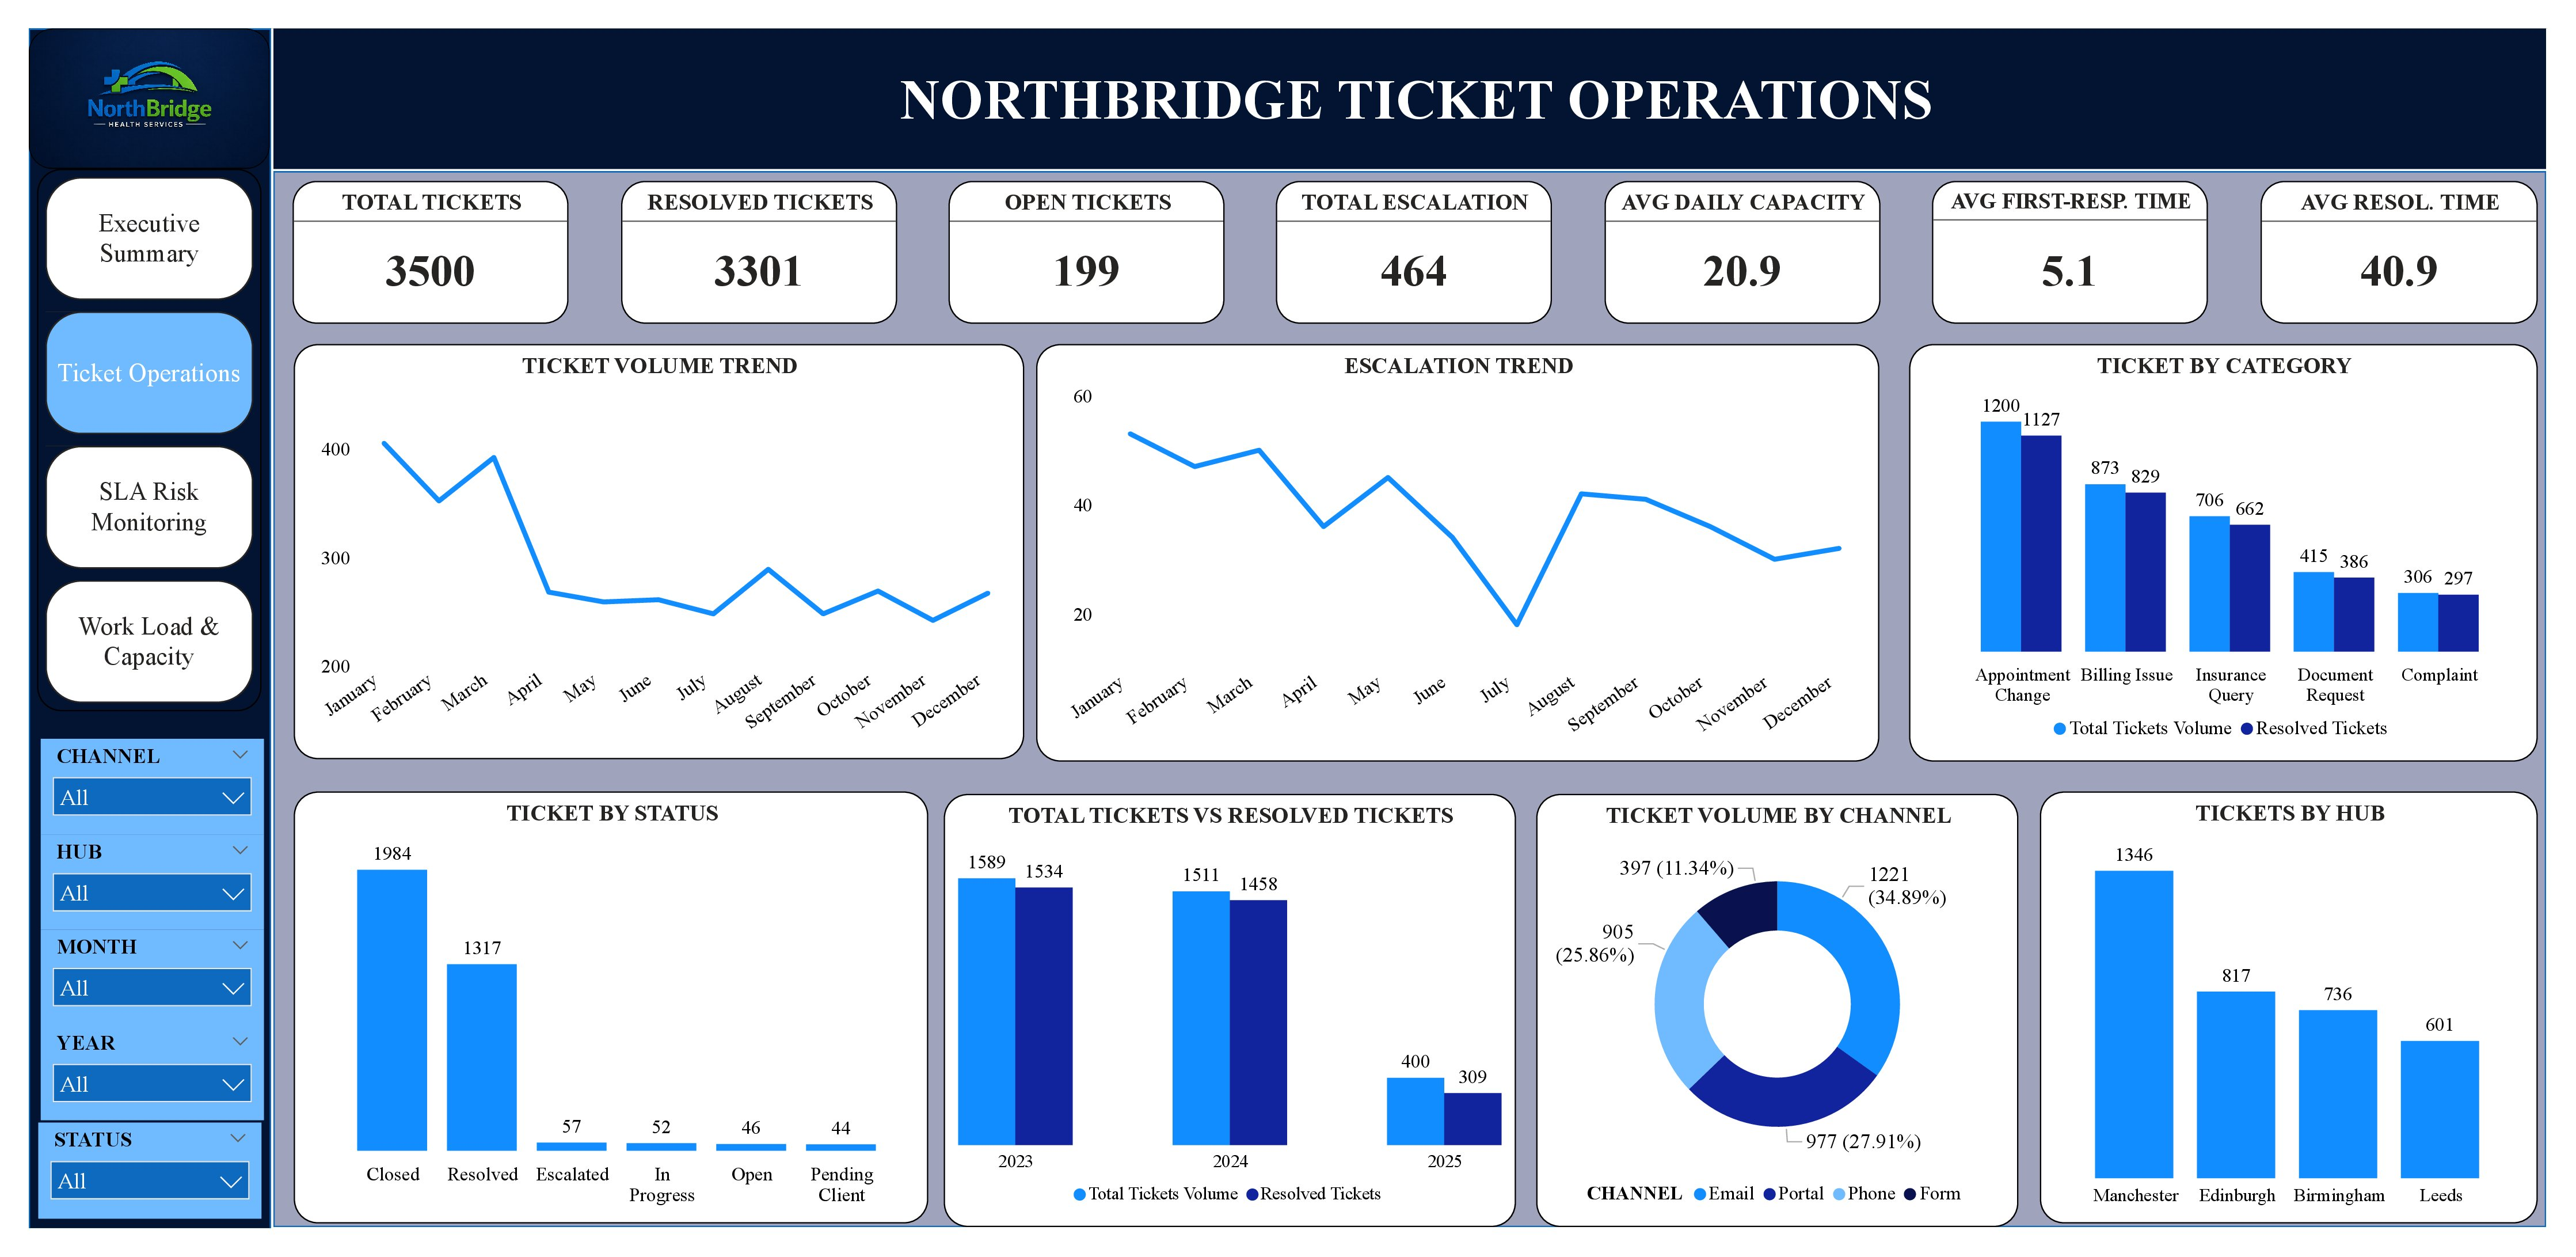

What the dashboard file says about the page in this screenshot:
{"tool":"powerbi","page":{"name":"Ticket Operations","canvas":[2100,1000],"ordinal":1},"visuals":[{"type":"shape","box":[203.7,119.2,1895.5,879.4],"z":0},{"type":"shape","box":[0,0,202.4,1000.8],"z":1000},{"type":"shape","title":"N","box":[203.7,0,1895.5,116.8],"z":2000},{"type":"cardVisual","title":"TOTAL TICKETS","fields":{"Data":["FCT_TICKETS.Total Tickets (Ticket Volume)"]},"box":[220.3,127,230,119.1],"z":3000},{"type":"cardVisual","title":"RESOLVED TICKETS","fields":{"Data":["FCT_TICKETS.Resolved Tickets"]},"box":[493.7,126.7,230,119.2],"z":4000},{"type":"cardVisual","title":"OPEN TICKETS","fields":{"Data":["FCT_TICKETS.Open Tickets (Backlog Volume)"]},"box":[767.1,126.7,230,119.2],"z":5000},{"type":"cardVisual","title":"TOTAL ESCALATION","fields":{"Data":["FCT_ESCALATIONS.Total Escalations"]},"box":[1040.5,126.7,230,119.2],"z":6000},{"type":"cardVisual","title":"AVG FIRST-RESP. TIME","fields":{"Data":["FCT_TICKETS.Average First Response Time(hrs)"]},"box":[1587.3,126.7,230,119.2],"z":7000},{"type":"cardVisual","title":"AVG RESOL. TIME","fields":{"Data":["FCT_TICKETS.Average Resolution Time(hrs)"]},"box":[1860.7,126.7,231,119.2],"z":8000},{"type":"lineChart","title":"TICKET VOLUME TREND","fields":{"Y":["FCT_TICKETS.Total Tickets (Ticket Volume)"],"Category":["DIM_DATE.YEAR_MONTH.Variation.Date Hierarchy.Year","DIM_DATE.YEAR_MONTH.Variation.Date Hierarchy.Quarter","DIM_DATE.YEAR_MONTH.Variation.Date Hierarchy.Month","DIM_DATE.YEAR_MONTH.Variation.Date Hierarchy.Day"]},"box":[221.1,263.3,608.6,345.3],"z":9000},{"type":"donutChart","title":"TICKET VOLUME BY CHANNEL","fields":{"Y":["FCT_TICKETS.Total Tickets (Ticket Volume)"],"Category":["FCT_TICKETS.CHANNEL"]},"box":[1257,638.5,402.4,360.2],"z":10000},{"type":"image","box":[0,0,201.2,116.8],"z":11000},{"type":"clusteredColumnChart","title":"TOTAL TICKETS VS RESOLVED TICKETS","fields":{"Category":["DIM_DATE.YEAR_MONTH.Variation.Date Hierarchy.Year"],"Y":["FCT_TICKETS.Total Tickets (Ticket Volume)","FCT_TICKETS.Resolved Tickets"]},"box":[762.7,638.5,477,360.2],"z":12000},{"type":"clusteredColumnChart","title":"TICKETS BY HUB","fields":{"Category":["DIM_AGENTS.HUB"],"Y":["FCT_TICKETS.Total Tickets (Ticket Volume)"]},"box":[1676.9,636,414.9,360.2],"z":13000},{"type":"clusteredColumnChart","title":"TICKET BY CATEGORY","fields":{"Y":["FCT_TICKETS.Total Tickets (Ticket Volume)","FCT_TICKETS.Resolved Tickets"],"Category":["DIM_TICKET_CATEGORY.CATEGORY_NAME"]},"box":[1567.6,263.3,524.2,347.8],"z":14000},{"type":"clusteredColumnChart","title":"TICKET BY STATUS ","fields":{"Category":["FCT_TICKETS.STATUS"],"Y":["FCT_TICKETS.Total Tickets (Ticket Volume)"]},"box":[221.1,636,529.1,360.2],"z":15000},{"type":"cardVisual","title":"AVG DAILY CAPACITY","fields":{"Data":["DIM_AGENTS.Average Daily Capacity"]},"box":[1313.9,126.7,230,119.2],"z":16000},{"type":"lineChart","title":"ESCALATION TREND","fields":{"Category":["DIM_DATE.DATE_KEY.Variation.Date Hierarchy.Month"],"Y":["FCT_ESCALATIONS.Total Escalations"]},"box":[839.7,263.3,703,347.8],"z":17000},{"type":"pageNavigator","box":[7.5,116.8,186.3,452.1],"z":18000},{"type":"slicer","fields":{"Values":["DIM_DATE.YEAR_MONTH.Variation.Date Hierarchy.Year"]},"box":[9.9,830.6,186.3,79.5],"z":19000},{"type":"slicer","fields":{"Values":["DIM_DATE.YEAR_MONTH.Variation.Date Hierarchy.Month"]},"box":[9.9,751.1,186.3,79.5],"z":20000},{"type":"slicer","fields":{"Values":["DIM_AGENTS.HUB"]},"box":[9.9,671.6,186.3,79.5],"z":21000},{"type":"slicer","fields":{"Values":["FCT_TICKETS.CHANNEL"]},"box":[9.9,592.1,186.3,79.5],"z":22000},{"type":"slicer","fields":{"Values":["FCT_TICKETS.STATUS"]},"box":[7.8,911.9,186.5,80.3],"z":23000}]}

Visuals, with their boxes on the page's 2100x1000 design canvas (x1, y1, x2, y2). These are canvas units, not pixel positions in the 2576x1257 screenshot, which may show the page scaled, cropped or inside an application window:
shape: x1=204, y1=119, x2=2099, y2=999
shape: x1=0, y1=0, x2=202, y2=1001
"N" shape: x1=204, y1=0, x2=2099, y2=117
"TOTAL TICKETS" cardVisual: x1=220, y1=127, x2=450, y2=246
"RESOLVED TICKETS" cardVisual: x1=494, y1=127, x2=724, y2=246
"OPEN TICKETS" cardVisual: x1=767, y1=127, x2=997, y2=246
"TOTAL ESCALATION" cardVisual: x1=1040, y1=127, x2=1270, y2=246
"AVG FIRST-RESP. TIME" cardVisual: x1=1587, y1=127, x2=1817, y2=246
"AVG RESOL. TIME" cardVisual: x1=1861, y1=127, x2=2092, y2=246
"TICKET VOLUME TREND" lineChart: x1=221, y1=263, x2=830, y2=609
"TICKET VOLUME BY CHANNEL" donutChart: x1=1257, y1=638, x2=1659, y2=999
image: x1=0, y1=0, x2=201, y2=117
"TOTAL TICKETS VS RESOLVED TICKETS" clusteredColumnChart: x1=763, y1=638, x2=1240, y2=999
"TICKETS BY HUB" clusteredColumnChart: x1=1677, y1=636, x2=2092, y2=996
"TICKET BY CATEGORY" clusteredColumnChart: x1=1568, y1=263, x2=2092, y2=611
"TICKET BY STATUS " clusteredColumnChart: x1=221, y1=636, x2=750, y2=996
"AVG DAILY CAPACITY" cardVisual: x1=1314, y1=127, x2=1544, y2=246
"ESCALATION TREND" lineChart: x1=840, y1=263, x2=1543, y2=611
pageNavigator: x1=8, y1=117, x2=194, y2=569
slicer - DIM_DATE.YEAR_MONTH.Variation.Date Hierarchy.Year: x1=10, y1=831, x2=196, y2=910
slicer - DIM_DATE.YEAR_MONTH.Variation.Date Hierarchy.Month: x1=10, y1=751, x2=196, y2=831
slicer - DIM_AGENTS.HUB: x1=10, y1=672, x2=196, y2=751
slicer - FCT_TICKETS.CHANNEL: x1=10, y1=592, x2=196, y2=672
slicer - FCT_TICKETS.STATUS: x1=8, y1=912, x2=194, y2=992
